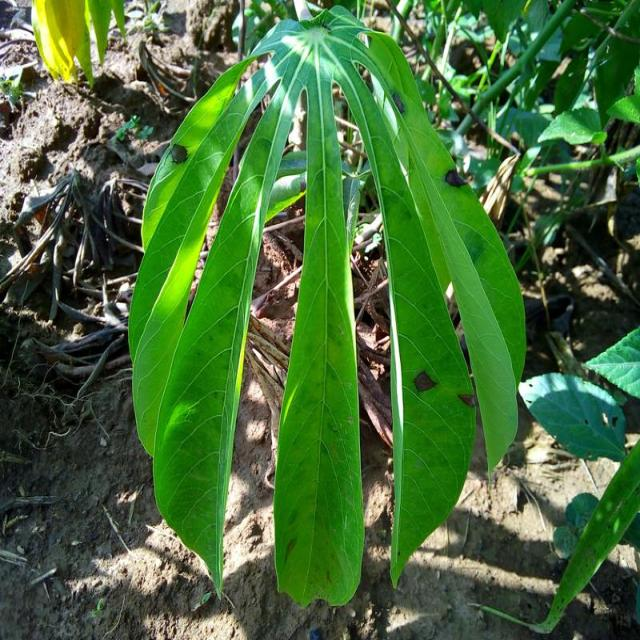cassava leaf: (127, 4, 527, 607)
